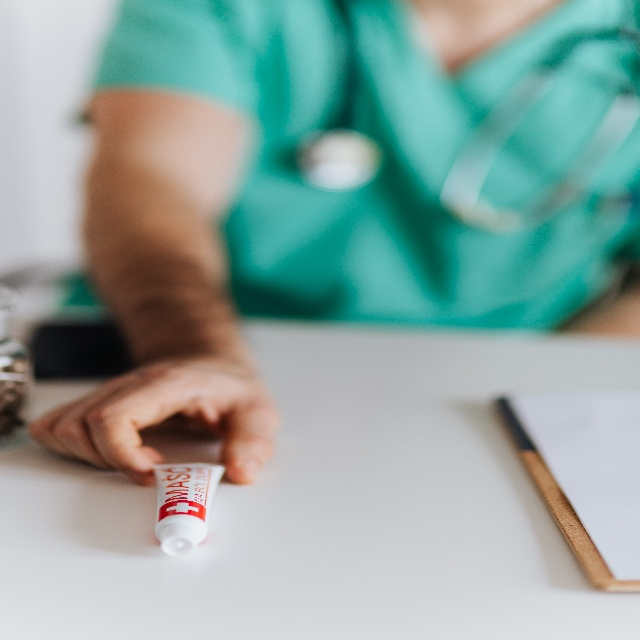Sin_guantes: (28, 352, 281, 487)
